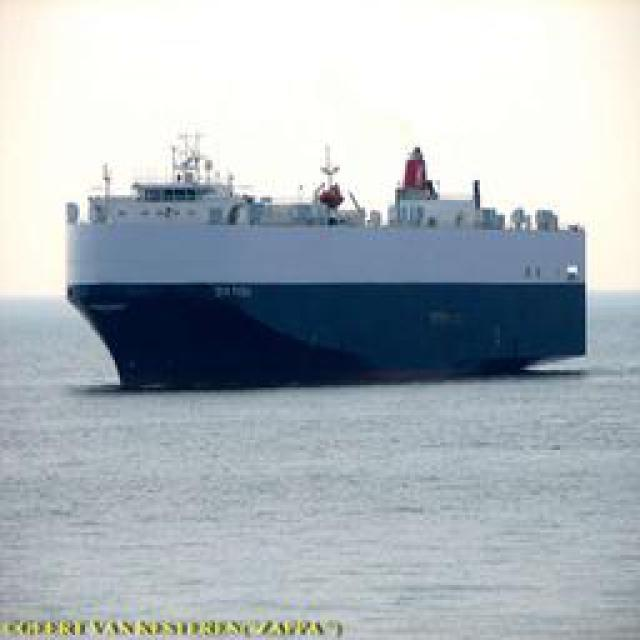Ship: (67, 140, 590, 385)
